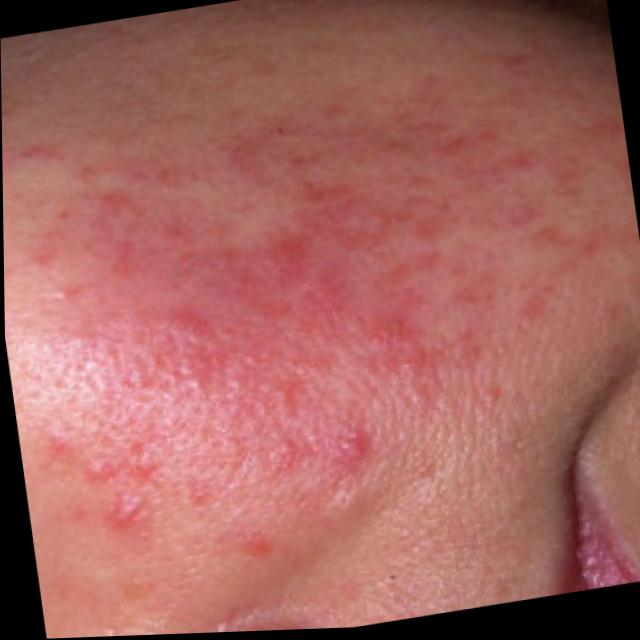Rosacea: (5, 27, 640, 584)
